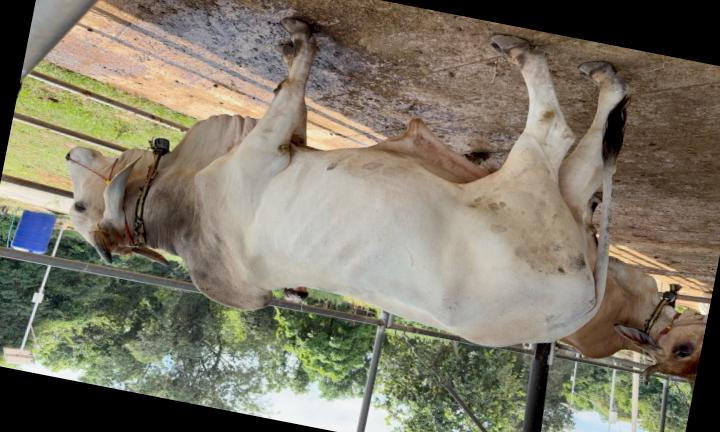Brahman: (66, 19, 628, 346)
